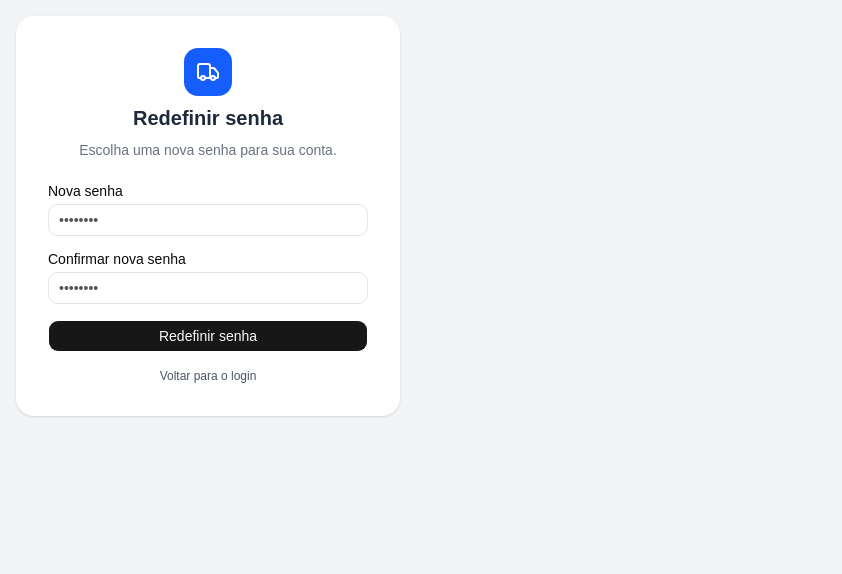
Test: RedefinirSenha › exibe toast de erro quando o token é inválido ou expirado
In the password field labelled "Nova senha": (208, 220) [48,204,368,236], type "novaSenhaSegura123"
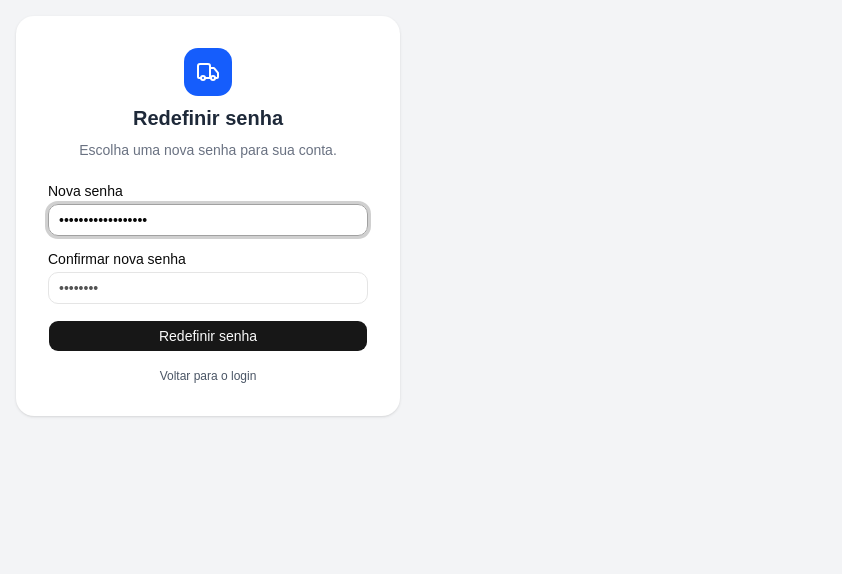
In the password field labelled "Confirmar nova senha": (208, 288) [48,272,368,304], type "novaSenhaSegura123"
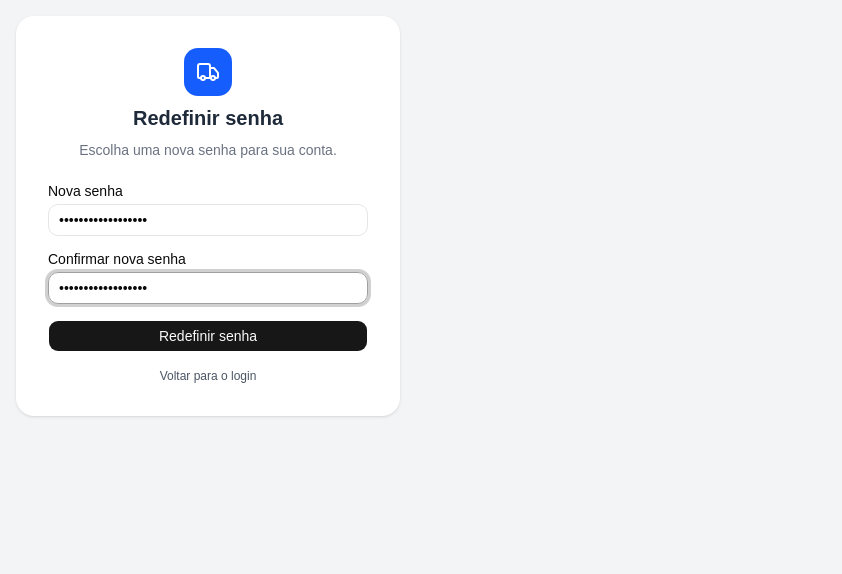
Click the button "Redefinir senha": (208, 336) [48,320,368,352]
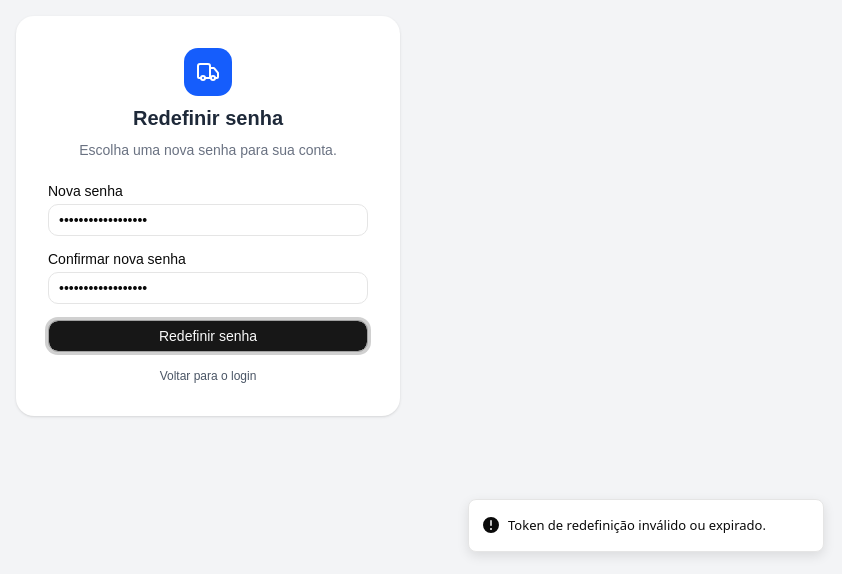
Check: the text "Token de redefinição inválido ou expirado." is shown, box [508,516,766,535]
